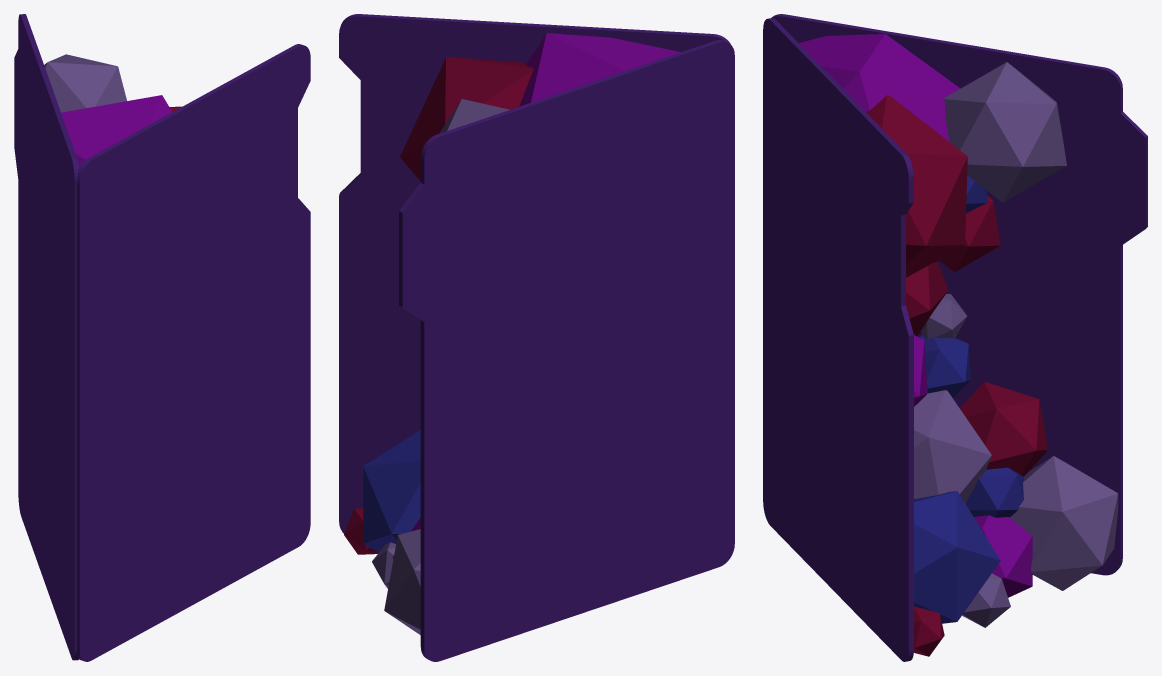
Rendered from Cannon_Tower.fbx.
3 renders of one model, left to right at view 1: azimuth 30°, elevation 25°; view 2: azimuth 150°, elevation 25°; view 3: azimuth 270°, elevation 25°, orthographic. The views are drawn at different scales.
Visible parts, largest first — view 1: Cannon_Tower_; view 2: Cannon_Tower_; view 3: Cannon_Tower_.
Part boxes in pixels (bbox=[...]): Cannon_Tower_: bbox=[14, 14, 310, 661]; Cannon_Tower_: bbox=[339, 14, 734, 661]; Cannon_Tower_: bbox=[763, 14, 1147, 661].
Bounding box in the file's own units: 2.88 × 4.61 × 3.1.
